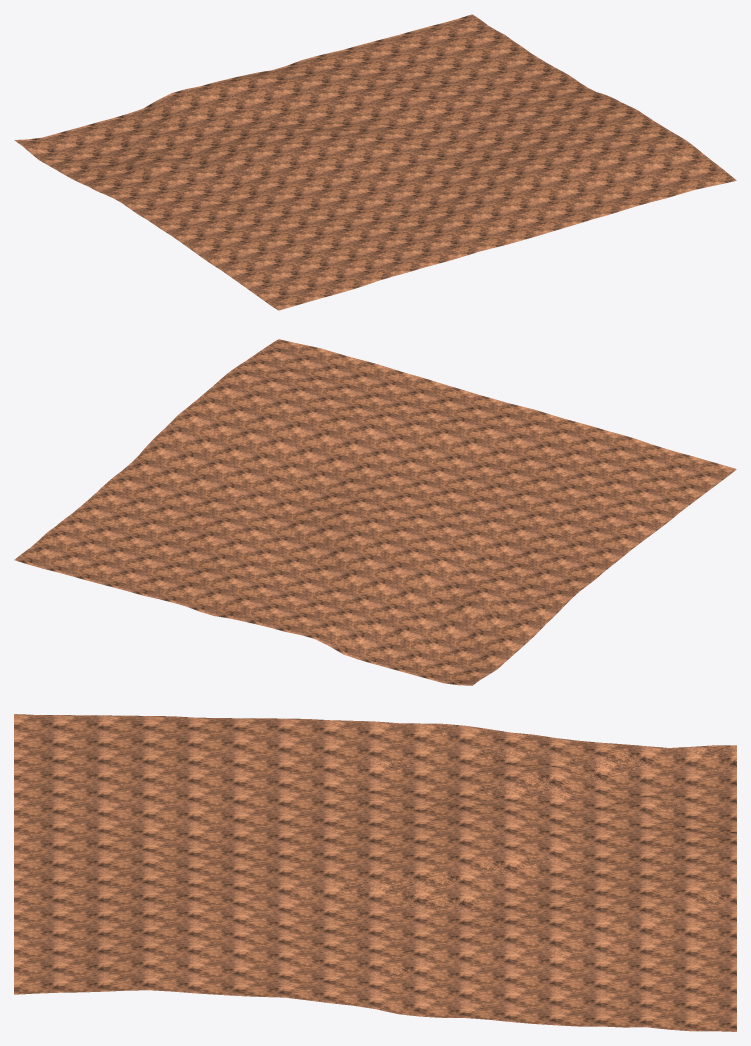
The model's file is terrain_06_22.dae.
3 renders of one model, top to bottom at view 1: azimuth 30°, elevation 25°; view 2: azimuth 150°, elevation 25°; view 3: azimuth 270°, elevation 25°, orthographic. The views are drawn at different scales.
Visible parts, largest first — view 1: terrain_06_22-node; view 2: terrain_06_22-node; view 3: terrain_06_22-node.
Part boxes in pixels (<box>): terrain_06_22-node: <box>14,14,736,310</box>; terrain_06_22-node: <box>14,339,736,685</box>; terrain_06_22-node: <box>14,714,736,1031</box>.
Size of the model in its own units: 128 by 128 by 13.05.
1 material, 1 textured.
